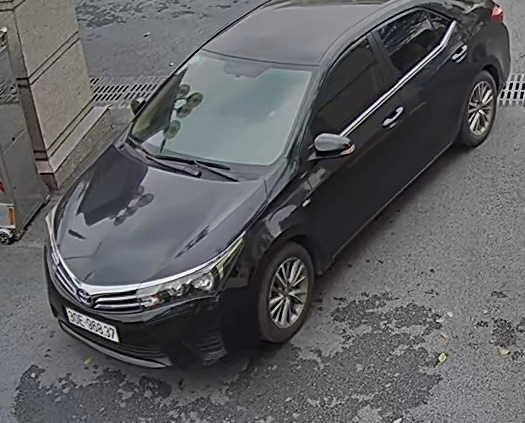vehicle plate: (65, 300, 123, 341)
